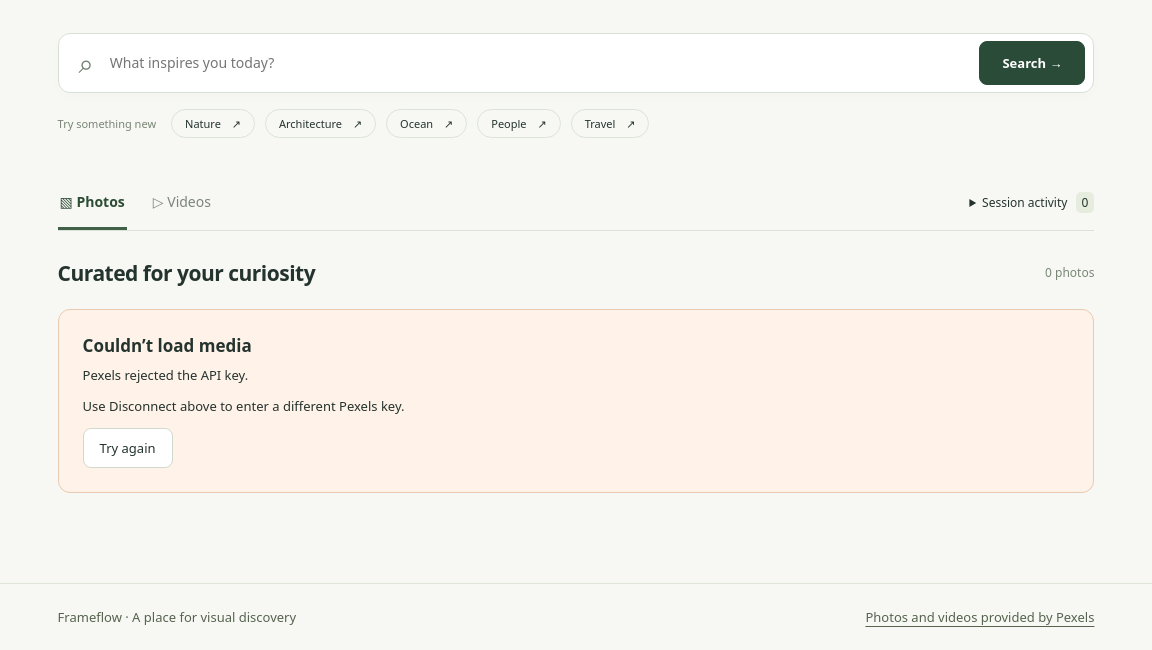
Scenario: shows authentication recovery and retries initial errors
(page scrolled)
Expected: the text "Use Disconnect above to enter a different Pexels key." is shown, x1=83 y1=397 x2=404 y2=415
Click the button "Try again" at [128, 448], box x1=83 y1=428 x2=172 y2=468
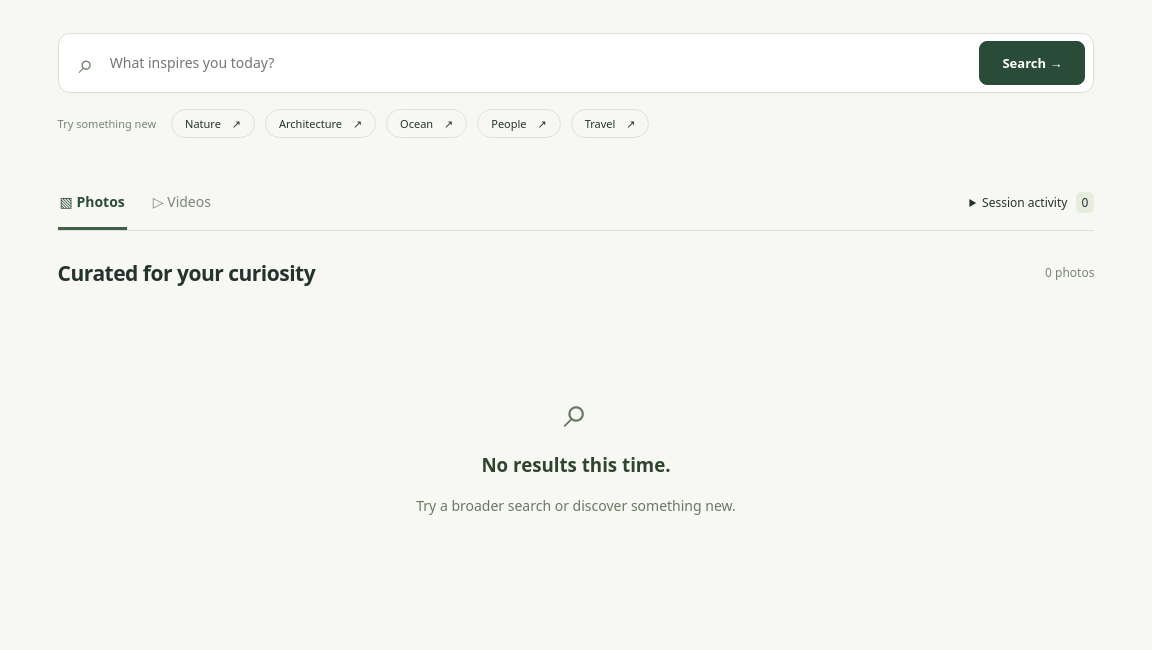
Now the heading "No results this time." is shown, box x1=481 y1=452 x2=671 y2=477
